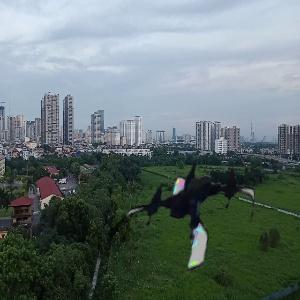drone: (120, 150, 258, 288)
